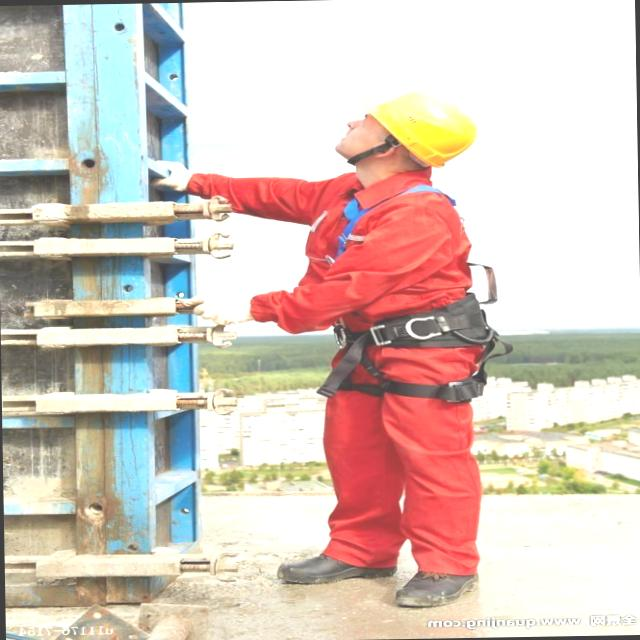helmet: (330, 91, 479, 166)
no-vest: (252, 180, 478, 418)
